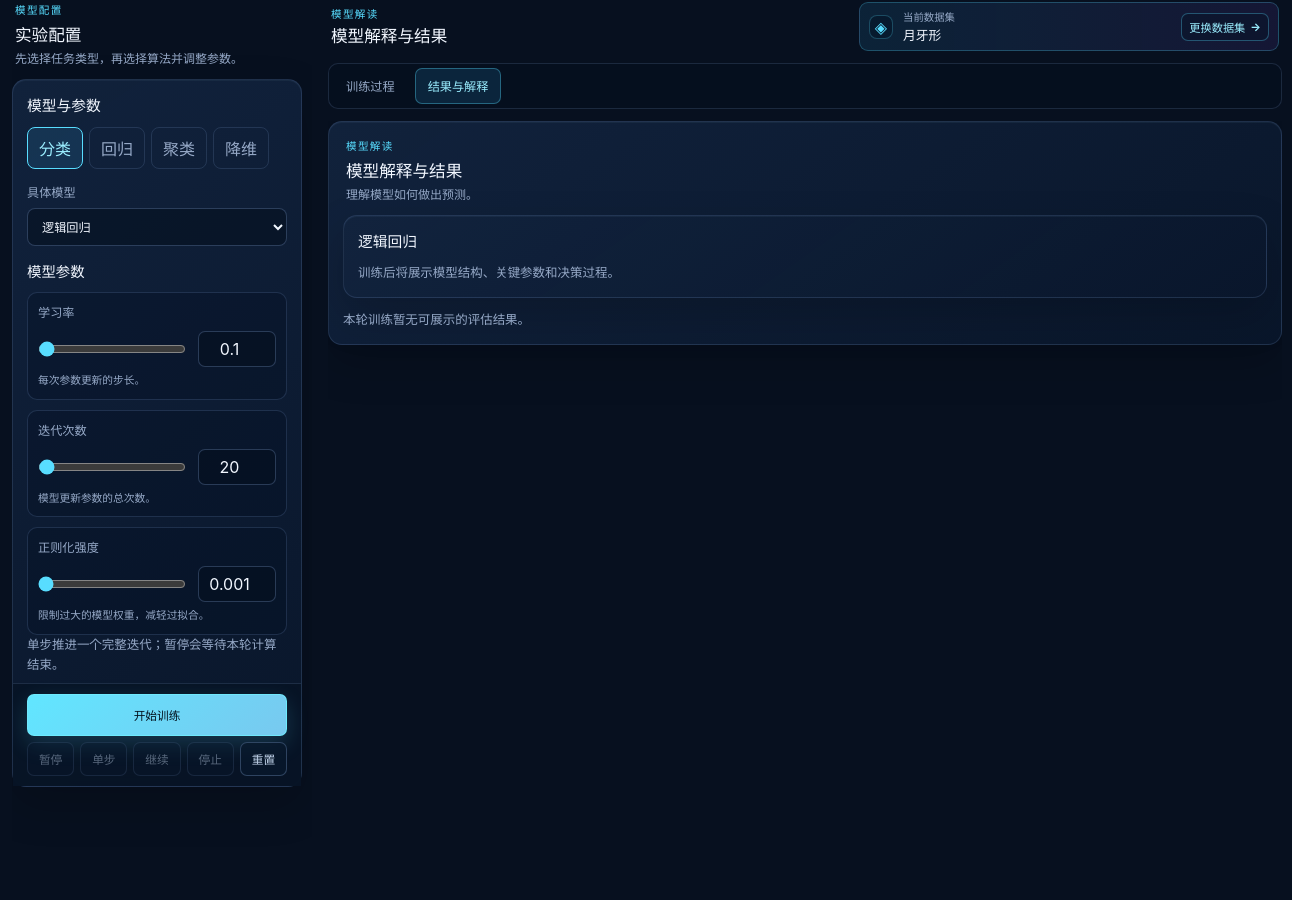
Test: 单页训练工作台 › 训练时间线紧凑展示快照并保留完整可访问名称
Click the tab "训练过程".
click(370, 86)  # box [333, 68, 408, 104]
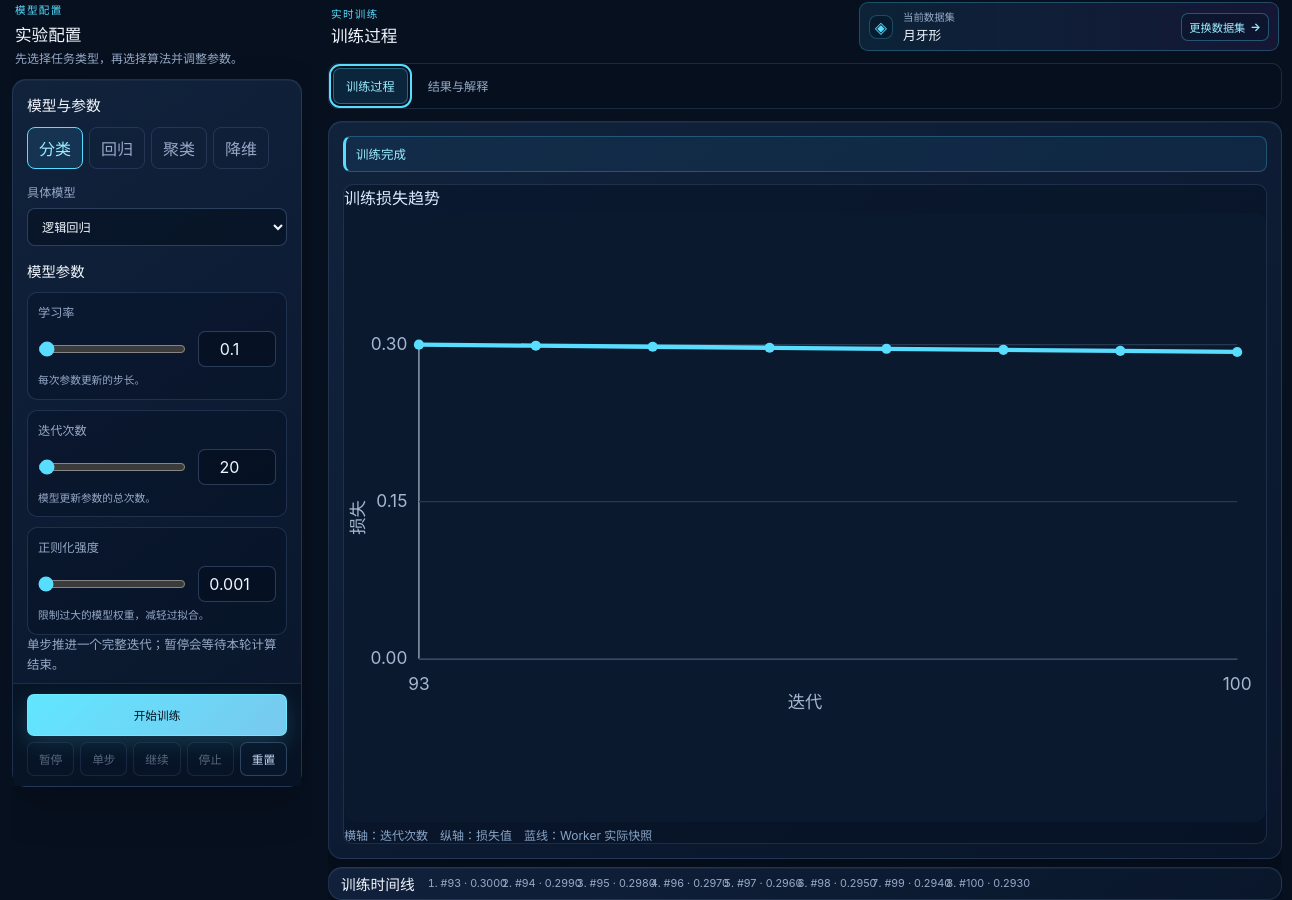
Now the number of list items is 8
Now the list item "#93 · 0.3000" is shown, box [441, 877, 507, 890]
